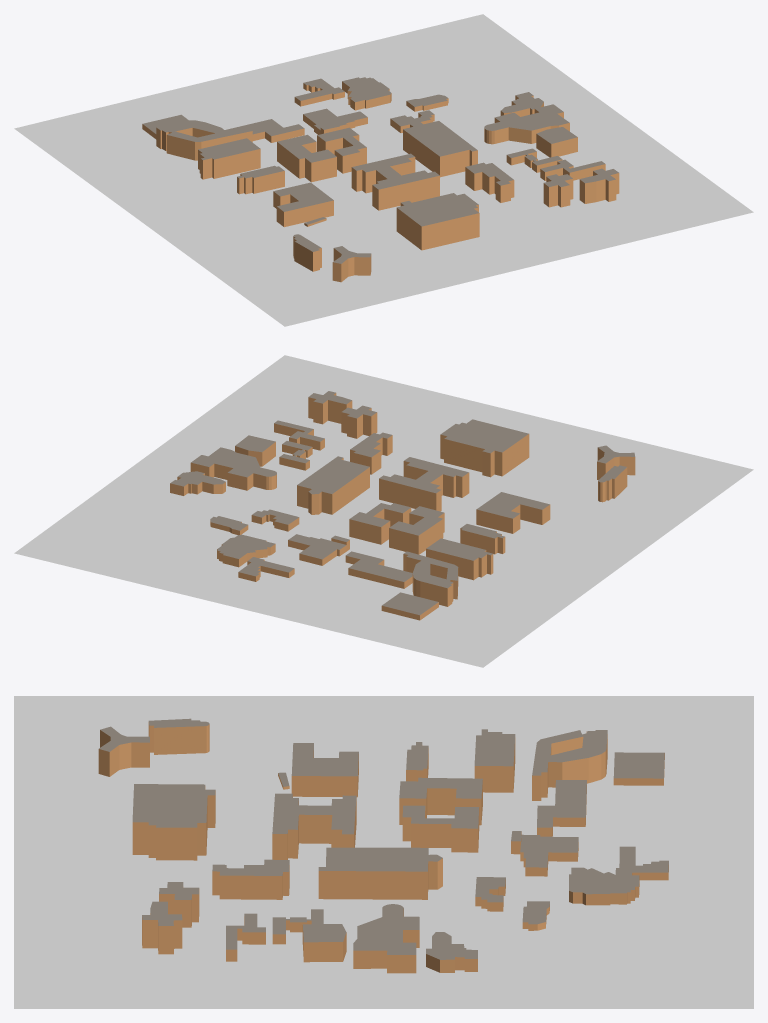
The model's file is NNN.glb.
3 views of the same model, one above another, from view 1: azimuth 30°, elevation 25°; view 2: azimuth 150°, elevation 25°; view 3: azimuth 270°, elevation 25° (orthographic). The views are drawn at different scales.
Visible parts, largest first — view 1: Plane, 綜合一館, 工程五館, 浩然圖書資訊中心, 科學三館, 學生活動中心, 工程四館, 工程六館, 田家炳光電大樓, 工程三館, 管理二館, 中正堂 (+12 smaller); view 2: Plane, 綜合一館, 工程五館, 浩然圖書資訊中心, 學生活動中心, 科學三館, 工程六館, 工程四館, 田家炳光電大樓, 工程三館, 科學一館, 中正堂 (+14 smaller); view 3: Plane, 浩然圖書資訊中心, 綜合一館, 工程五館, 科學三館, 學生活動中心, 工程六館, 工程三館, 管理二館, 工程四館, 田家炳光電大樓, 中正堂 (+15 smaller).
Boxes of the visible parts, box(x1,y1,x2,y2) form: Plane: box(14, 14, 753, 326); 綜合一館: box(396, 193, 479, 250); 工程五館: box(351, 153, 439, 210); 浩然圖書資訊中心: box(403, 121, 477, 177); 科學三館: box(156, 120, 252, 160); 學生活動中心: box(484, 104, 569, 144); 工程四館: box(277, 134, 336, 182); 工程六館: box(273, 182, 333, 227); 田家炳光電大樓: box(198, 138, 260, 179); 工程三館: box(317, 127, 366, 173); 管理二館: box(465, 162, 514, 202); 中正堂: box(342, 77, 391, 110); Plane: box(14, 355, 753, 667); 綜合一館: box(440, 419, 529, 477); 工程五館: box(379, 457, 469, 511); 浩然圖書資訊中心: box(297, 456, 369, 514); 學生活動中心: box(190, 447, 276, 490); 科學三館: box(403, 551, 458, 606); 工程六館: box(476, 492, 550, 533); 工程四館: box(389, 506, 444, 554); 田家炳光電大樓: box(426, 538, 493, 580); 工程三館: box(349, 503, 411, 544); 科學一館: box(345, 551, 412, 588); 中正堂: box(217, 534, 275, 567); Plane: box(14, 696, 753, 1008); 浩然圖書資訊中心: box(318, 847, 442, 899); 綜合一館: box(132, 784, 215, 860); 工程五館: box(272, 793, 356, 859); 科學三館: box(532, 730, 607, 800); 學生活動中心: box(353, 904, 419, 973); 工程六館: box(291, 743, 358, 797); 工程三館: box(402, 805, 479, 852); 管理二館: box(212, 859, 289, 899); 工程四館: box(399, 777, 482, 825); 田家炳光電大樓: box(474, 729, 515, 792); 中正堂: box(569, 867, 639, 905).
Size of the model in its own units: 711 by 34.69 by 711.
